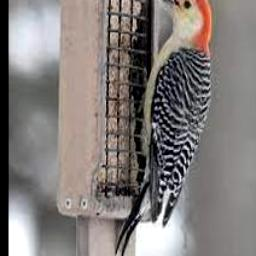Woodpecker: (115, 0, 211, 256)
